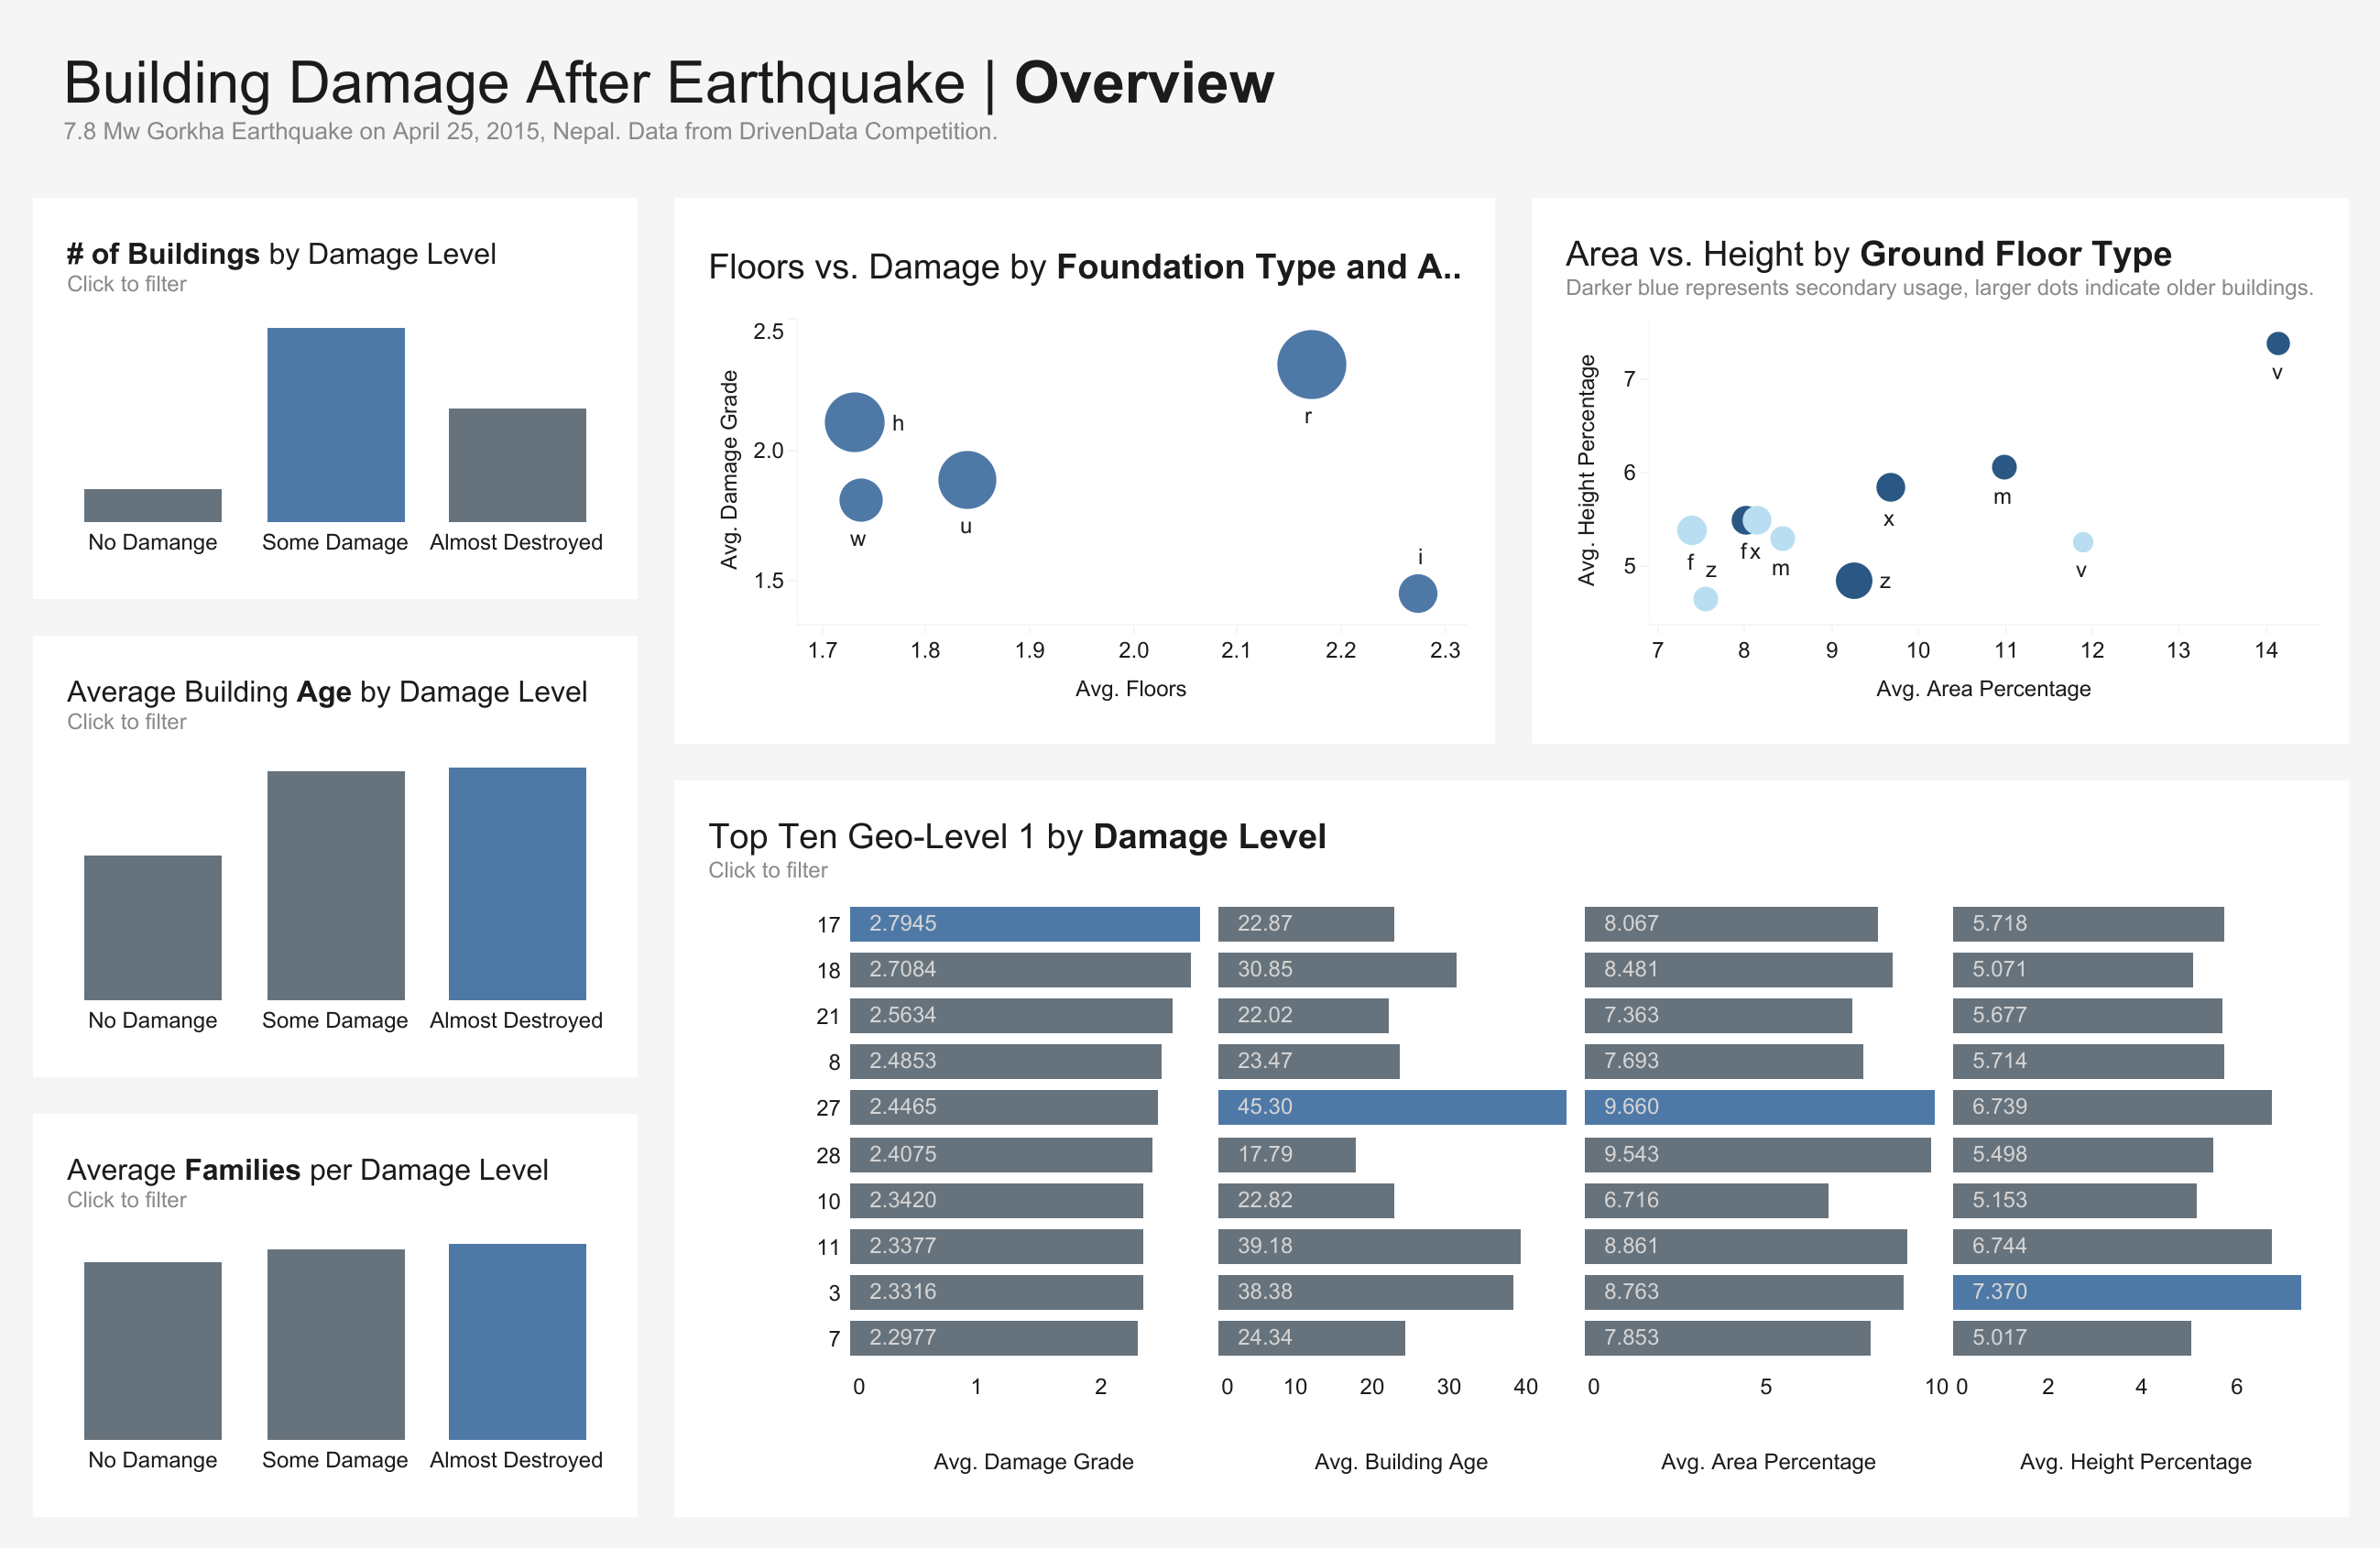

This screenshot's page, from the dashboard's own definition file:
{"tool":"tableau","page":{"name":"main","canvas":[1000,1000],"units":"permille","ordinal":0},"visuals":[{"type":"text","box":[21.5,25,956.9,82.5]},{"type":"text","box":[777.3,123.1,202.6,27]},{"type":"text","box":[23.1,150,235.4,62.5]},{"type":"text","box":[292.3,150,326.5,62.5]},{"type":"text","box":[652.7,150,324.2,62.5]},{"type":"worksheet","title":"count build","mark":"Automatic","rows":["Calculation_3984067240483393536"],"cols":["Calculation_3984067240483741697"],"box":[23.1,212.5,235.4,153.1]},{"type":"worksheet","title":"scatter foundation","mark":"Circle","rows":["damage_grade"],"cols":["count_floors_pre_eq"],"box":[292.3,212.5,326.5,222.5]},{"type":"worksheet","title":"secondary use","mark":"Circle","rows":["height_percentage"],"cols":["area_percentage"],"box":[652.7,212.5,324.2,222.5]},{"type":"text","box":[487.9,218.1,159.5,27]},{"type":"text","box":[23.1,420.6,235.4,62.5]},{"type":"worksheet","title":"avg age","mark":"Automatic","rows":["Calculation_3984067240487161858"],"cols":["Calculation_3984067240483741697"],"box":[23.1,483.1,235.4,208.8]},{"type":"text","box":[292.3,490,684.6,62.5]},{"type":"worksheet","title":"top ten","mark":"Automatic","rows":["geo_level_1_id"],"cols":["damage_grade","Calculation_3984067240487161858","area_percentage","height_percentage"],"box":[292.3,552.5,684.6,409.9]},{"type":"text","box":[23.1,746.9,235.4,62.5]},{"type":"worksheet","title":"families avg","mark":"Automatic","rows":["Calculation_3984067240491782149"],"cols":["Calculation_3984067240483741697"],"box":[23.1,809.4,235.4,153.1]}]}

Visuals, with their boxes on the dashboard's canvas, which has no fixed pixel size, in thousandths of its width and height (x1, y1, x2, y2). These are canvas units, not pixel positions in the 2380x1548 screenshot, which may show the page scaled, cropped or inside an application window:
text: BBox(22, 25, 978, 108)
text: BBox(777, 123, 980, 150)
text: BBox(23, 150, 258, 212)
text: BBox(292, 150, 619, 212)
text: BBox(653, 150, 977, 212)
"count build" worksheet: BBox(23, 212, 258, 366)
"scatter foundation" worksheet (Circle marks): BBox(292, 212, 619, 435)
"secondary use" worksheet (Circle marks): BBox(653, 212, 977, 435)
text: BBox(488, 218, 647, 245)
text: BBox(23, 421, 258, 483)
"avg age" worksheet: BBox(23, 483, 258, 692)
text: BBox(292, 490, 977, 552)
"top ten" worksheet: BBox(292, 552, 977, 962)
text: BBox(23, 747, 258, 809)
"families avg" worksheet: BBox(23, 809, 258, 962)
